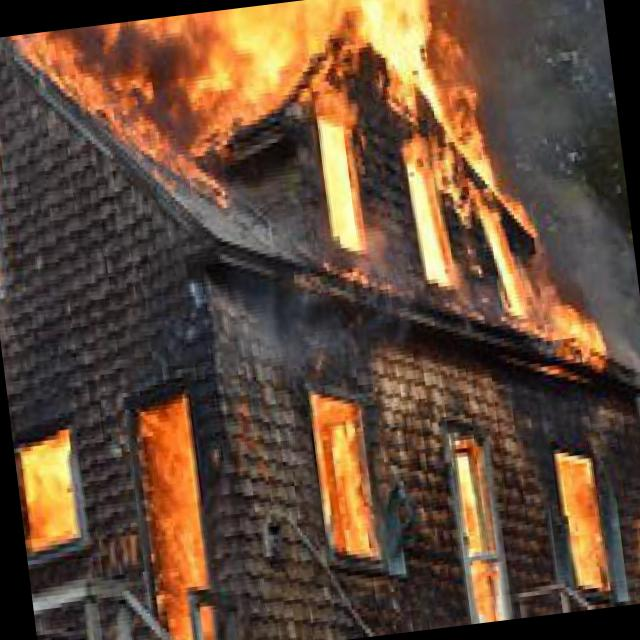fire: (32, 0, 480, 236), (133, 373, 229, 640), (306, 387, 380, 562), (546, 440, 608, 596), (524, 292, 616, 394), (14, 427, 84, 554)
smoke: (518, 150, 638, 296)
